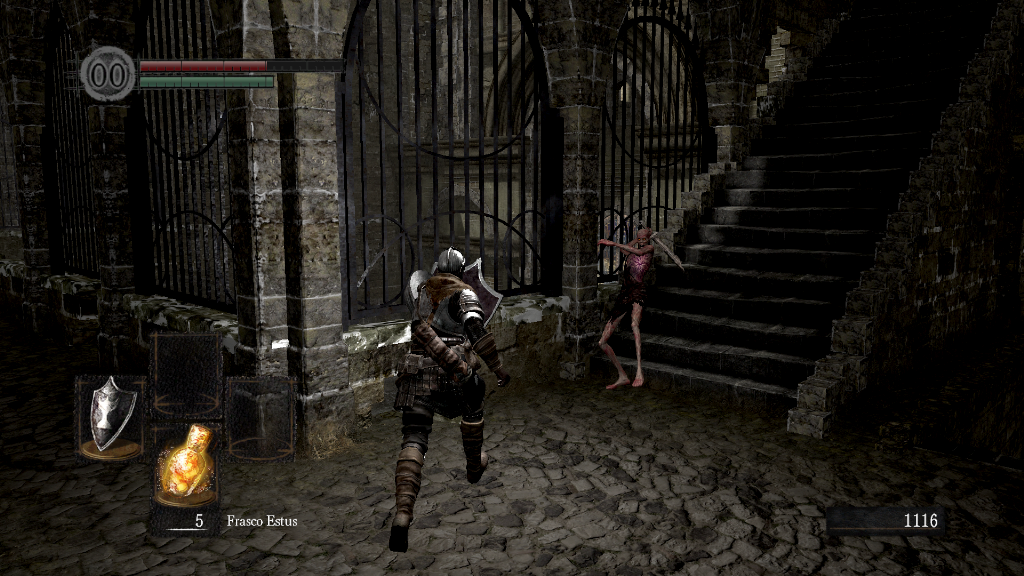health: (138, 58, 343, 71)
hollow: (588, 226, 658, 389)
humanity: (80, 45, 136, 102)
player: (388, 246, 513, 555)
souls: (825, 506, 945, 536)
stamina: (138, 74, 274, 88)
